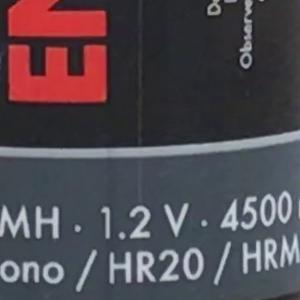HR20: (100, 238, 205, 293)
